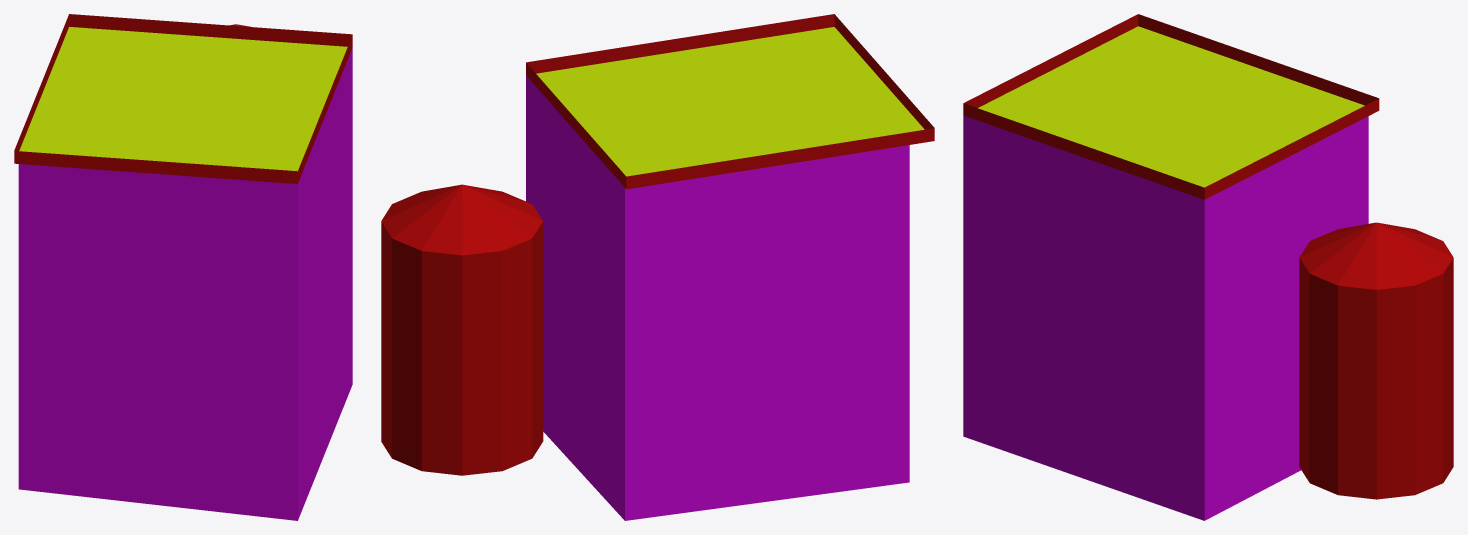
Rendered from ssv_3.glb.
3 renders of one model, left to right at view 1: azimuth 30°, elevation 25°; view 2: azimuth 150°, elevation 25°; view 3: azimuth 270°, elevation 25°, orthographic. The views are drawn at different scales.
Visible parts, largest first — view 1: ssv_3; view 2: ssv_3; view 3: ssv_3.
Boxes of the visible parts, x1=… form: ssv_3: x1=14, y1=14, x2=352, y2=520; ssv_3: x1=381, y1=14, x2=934, y2=520; ssv_3: x1=963, y1=14, x2=1453, y2=520.
Size of the model in its own units: 11.91 by 9.54 by 12.72.
